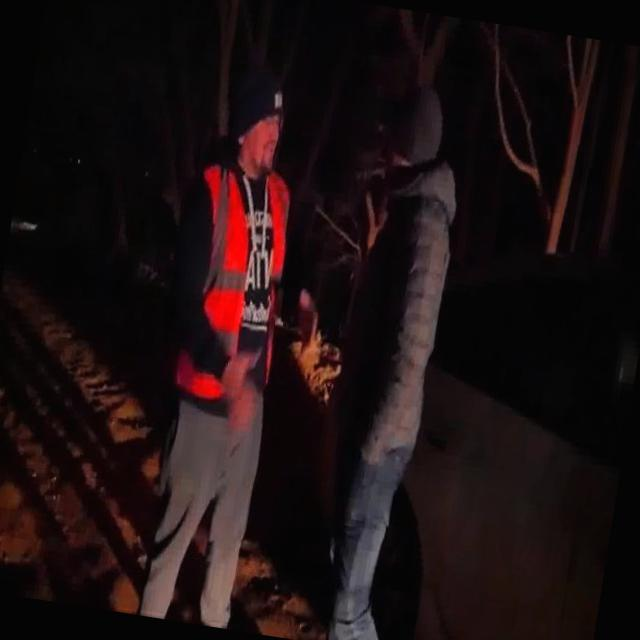vest: (172, 158, 301, 410)
